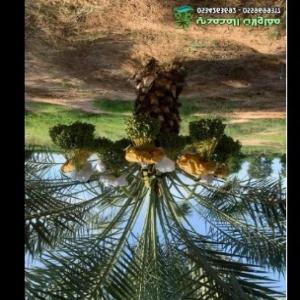palm tree: (24, 54, 286, 299)
